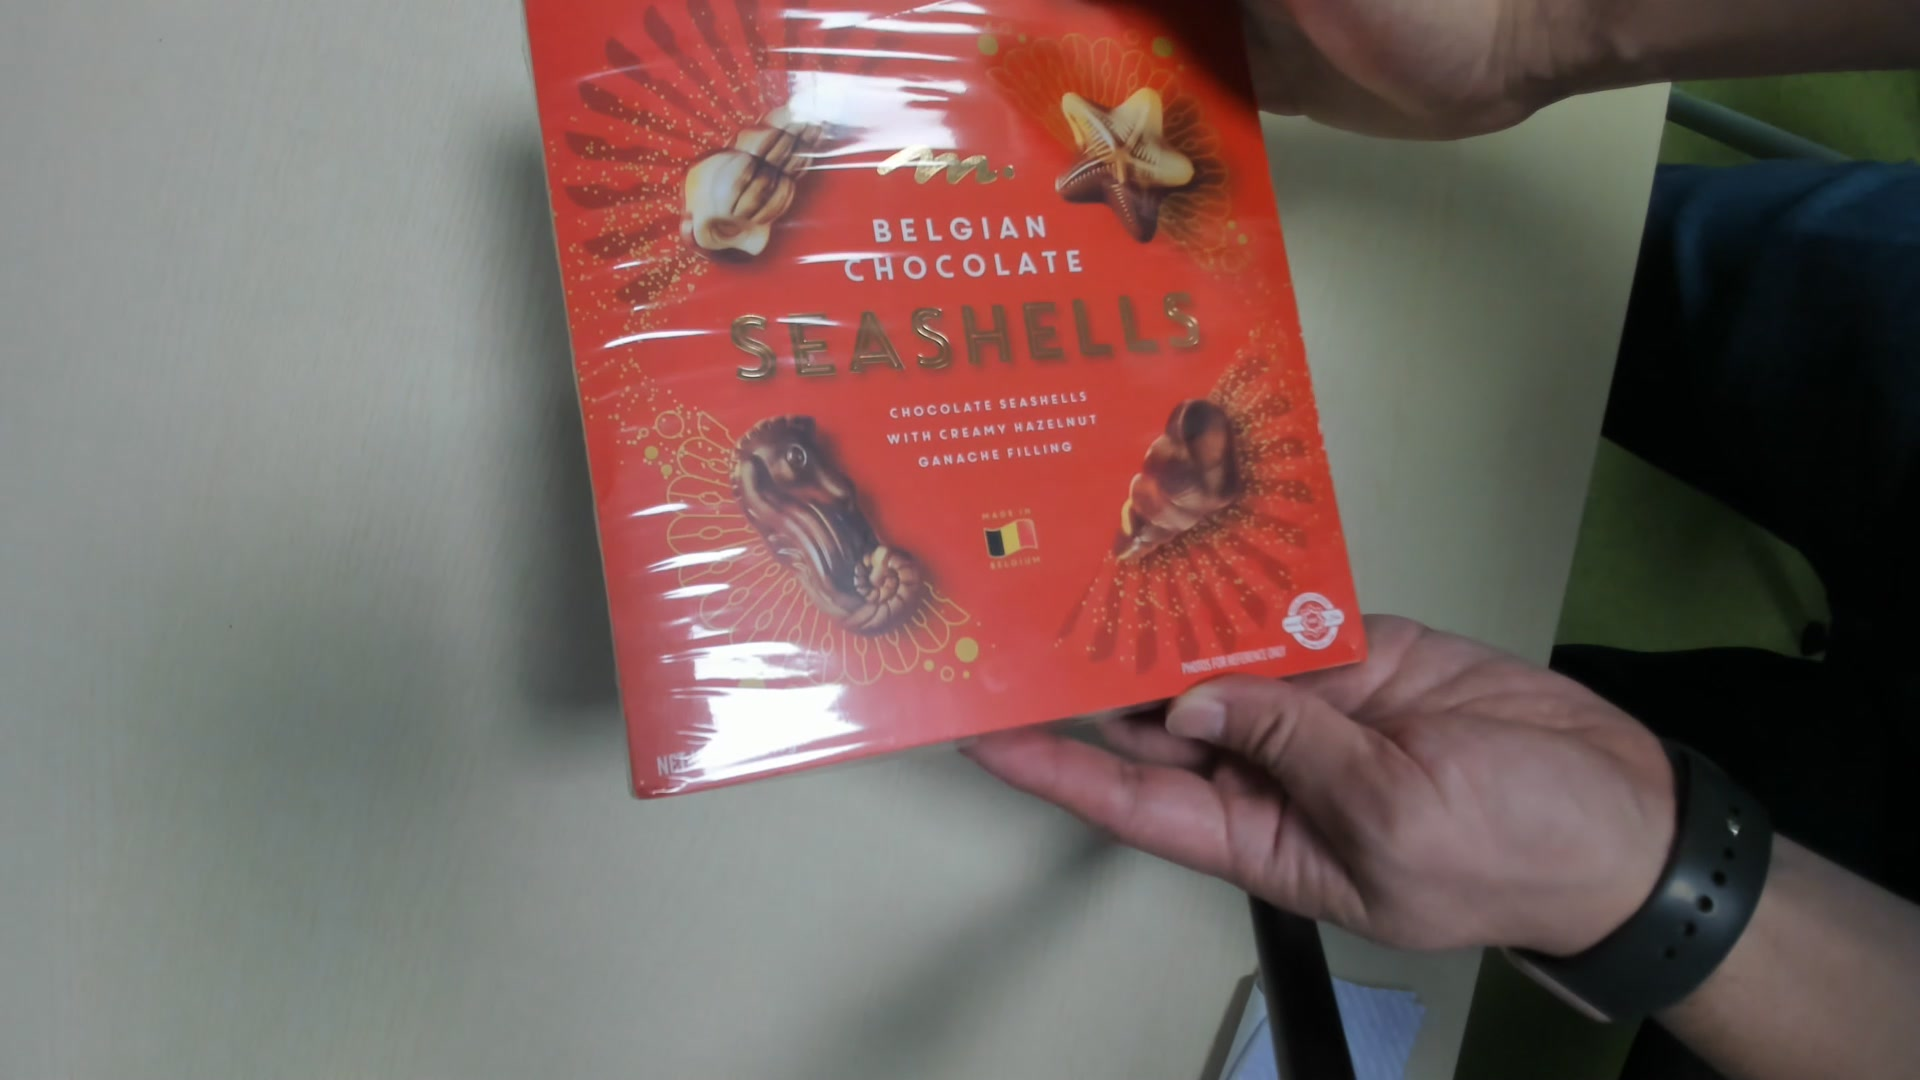SweetsChocolatesOthers_200-299g_Halal_Nonhealthy: (522, 1, 1369, 800)
